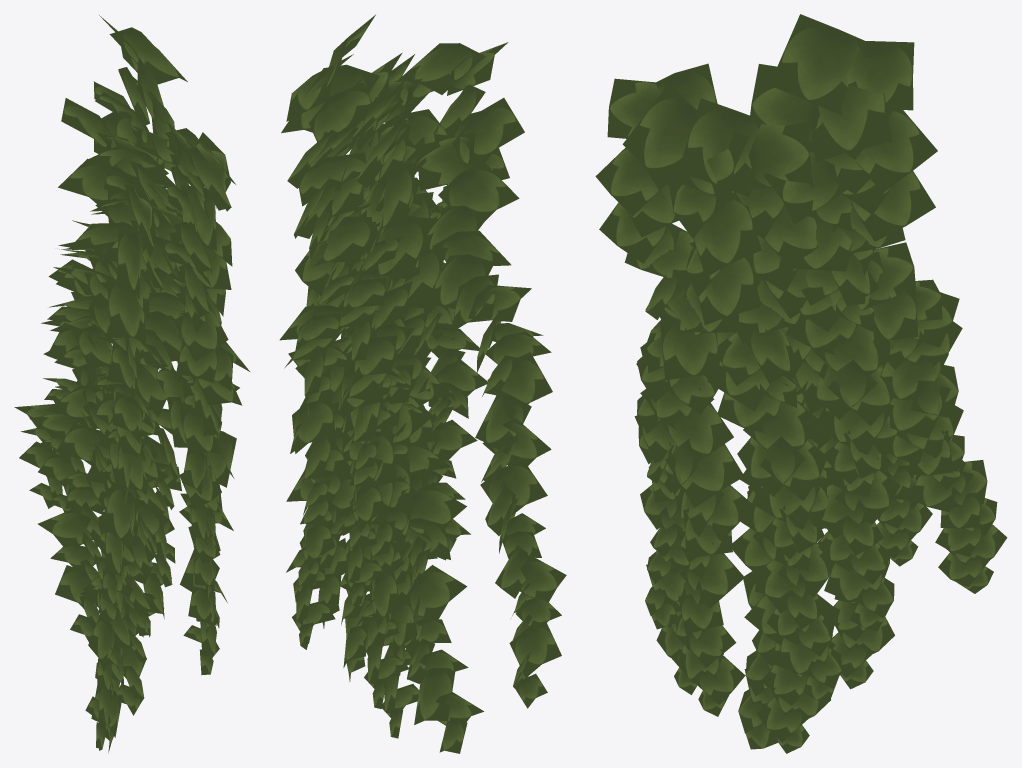
Rendered from SM_Ivy_3.fbx.
The picture shows the model from 3 angles, left to right: view 1: azimuth 30°, elevation 25°; view 2: azimuth 150°, elevation 25°; view 3: azimuth 270°, elevation 25°; orthographic projection. The views are drawn at different scales.
Visible parts, largest first — view 1: SM_Ivy_3_LOD0; view 2: SM_Ivy_3_LOD0; view 3: SM_Ivy_3_LOD0.
Boxes of the visible parts, box(x1,y1,x2,y2) form: SM_Ivy_3_LOD0: box(14, 15, 249, 753); SM_Ivy_3_LOD0: box(279, 14, 566, 753); SM_Ivy_3_LOD0: box(595, 14, 1007, 753).
Size of the model in its own units: 65.19 by 121 by 247.
Materials: 1 (1 with a texture image).
